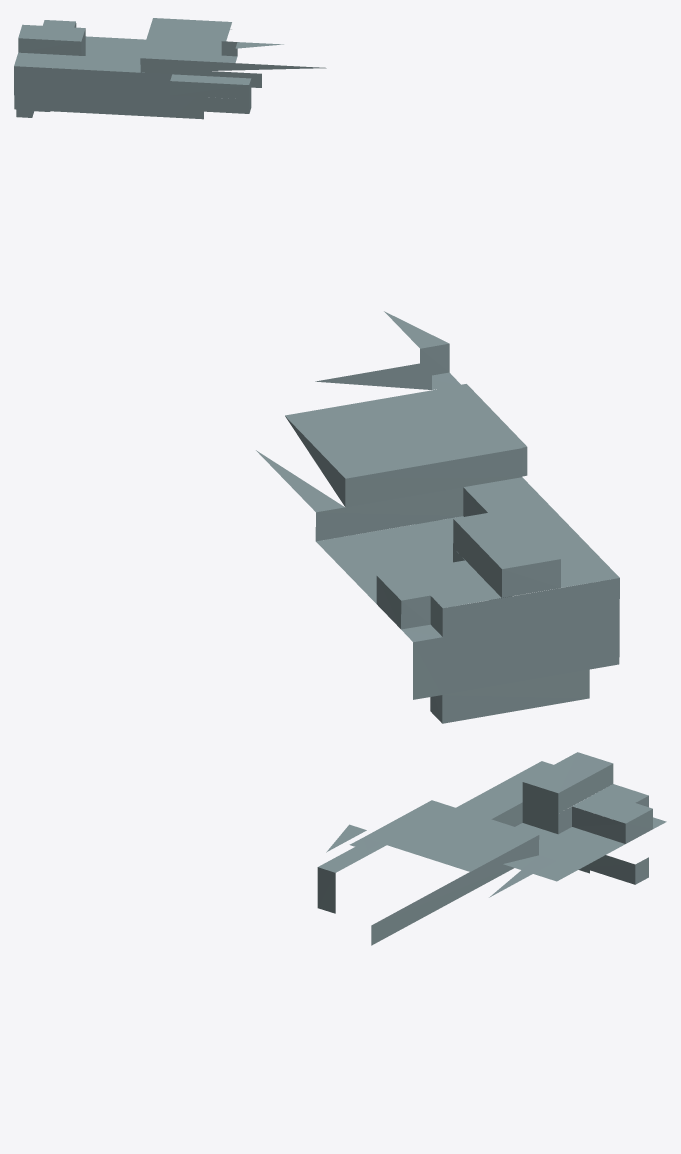
The picture shows the model from 3 angles, top to bottom: view 1: azimuth 30°, elevation 25°; view 2: azimuth 150°, elevation 25°; view 3: azimuth 270°, elevation 25°; orthographic projection. The views are drawn at different scales.
Visible parts, largest first — view 1: measured-industrial; view 2: measured-industrial; view 3: measured-industrial.
Boxes of the visible parts, box(x1,y1,x2,y2) form: measured-industrial: box(14, 18, 326, 119); measured-industrial: box(256, 311, 619, 723); measured-industrial: box(317, 752, 666, 945).
Size of the model in its own units: 50.6 by 9.12 by 43.44.
